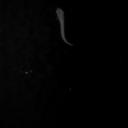fish: (56, 8, 73, 47)
